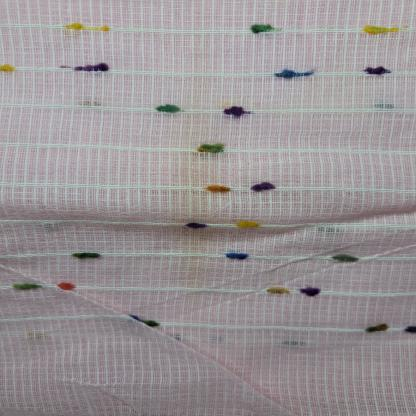spot: (168, 145, 222, 204), (168, 96, 235, 137), (164, 227, 215, 277), (74, 93, 108, 113)
